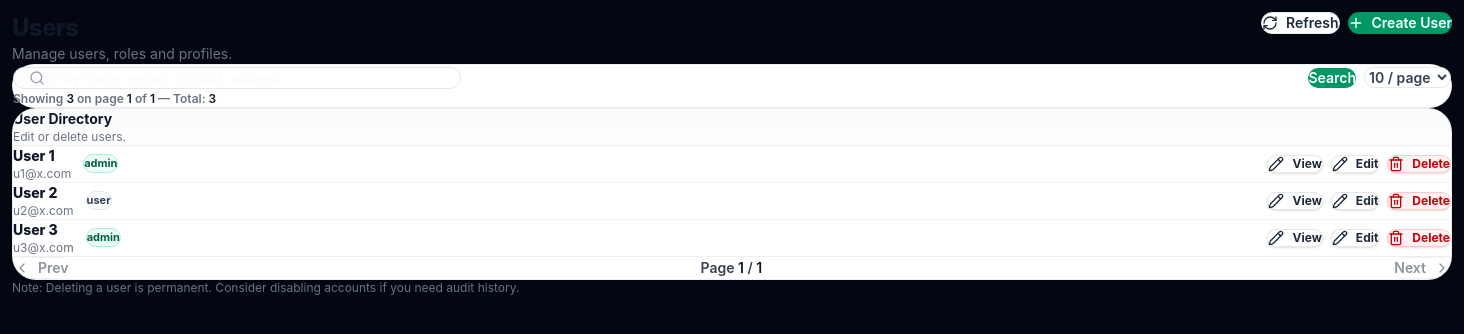
Test: AdminUsersPage › shows error when delete fails
Check: the text "User 1" is shown, box [13,147,55,164]
Click the button "Delete" in the row of "u1@x.com" at (1419, 164), box [1387,155,1451,173]
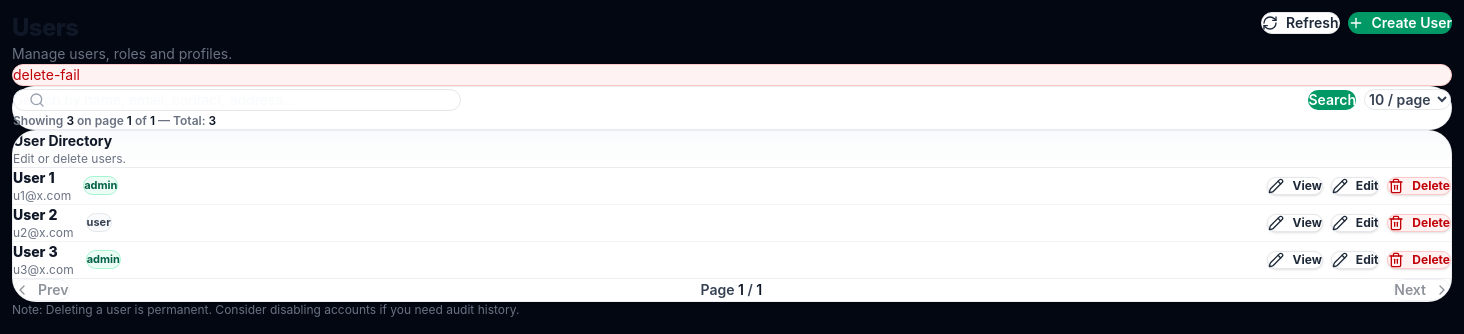
Check: the text "delete-fail" is shown, box [12,64,1452,86]
